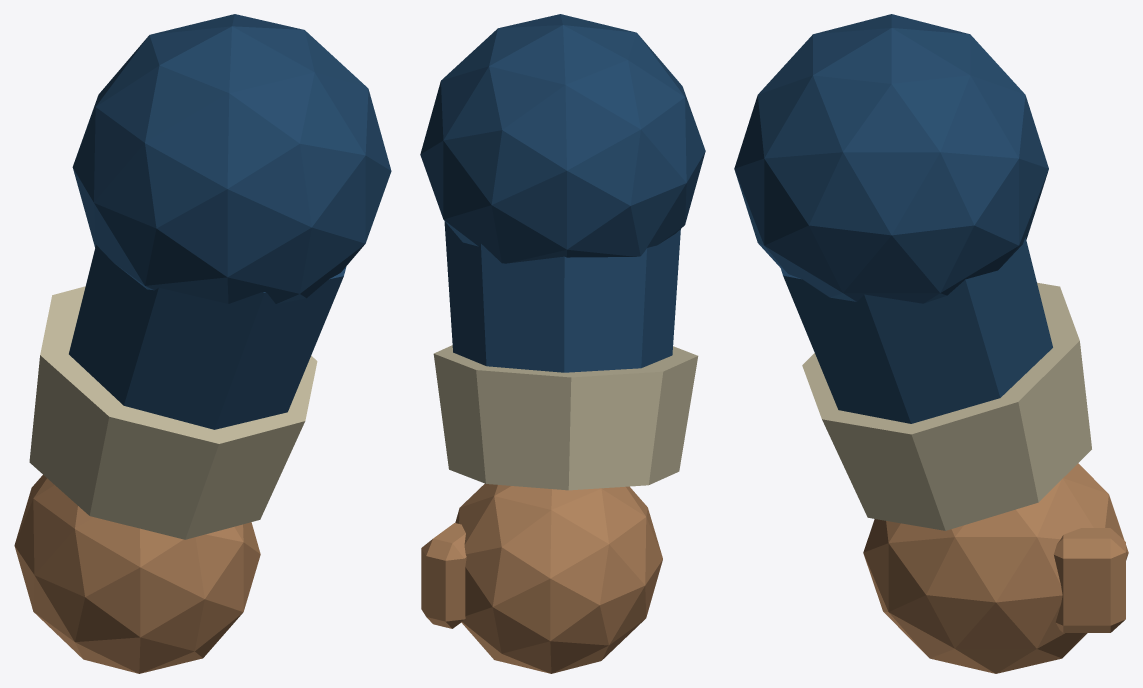
File: ForearmLeft.glb
3 views of the same model, side by side, from view 1: azimuth 30°, elevation 25°; view 2: azimuth 150°, elevation 25°; view 3: azimuth 270°, elevation 25° (orthographic). The views are drawn at different scales.
Visible parts, largest first — view 1: Sculpture; view 2: Sculpture; view 3: Sculpture.
Boxes of the visible parts, box(x1,y1,x2,y2) form: Sculpture: box(14, 14, 391, 673); Sculpture: box(420, 14, 705, 673); Sculpture: box(734, 14, 1128, 673).
Size of the model in its own units: 0.1743 by 0.382 by 0.208.
